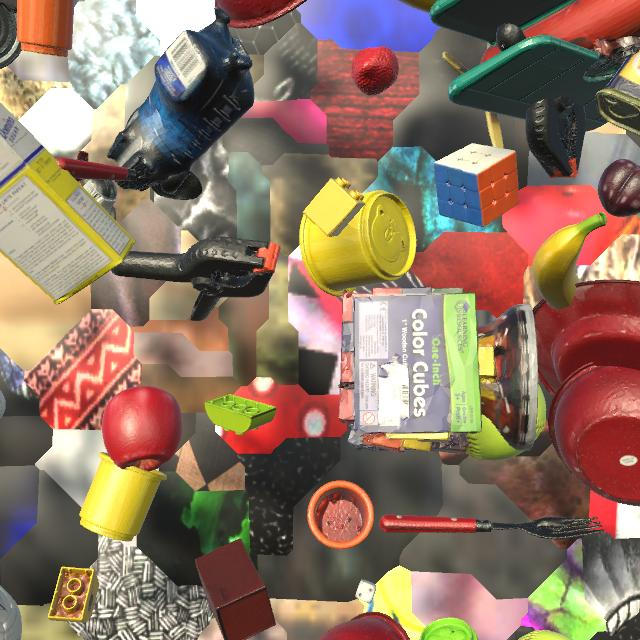ycb_004_sugar_box: (0, 102, 136, 305)
ycb_007_tuna_fish_can: (0, 7, 22, 69)
ycb_010_potted_meat_can: (595, 50, 640, 136)
ycb_011_banana: (532, 212, 607, 310), (398, 0, 437, 14)
ycb_012_strawberry: (351, 46, 399, 96)
ycb_013_apple: (102, 386, 183, 471)
ycb_018_plum: (598, 159, 640, 217)
